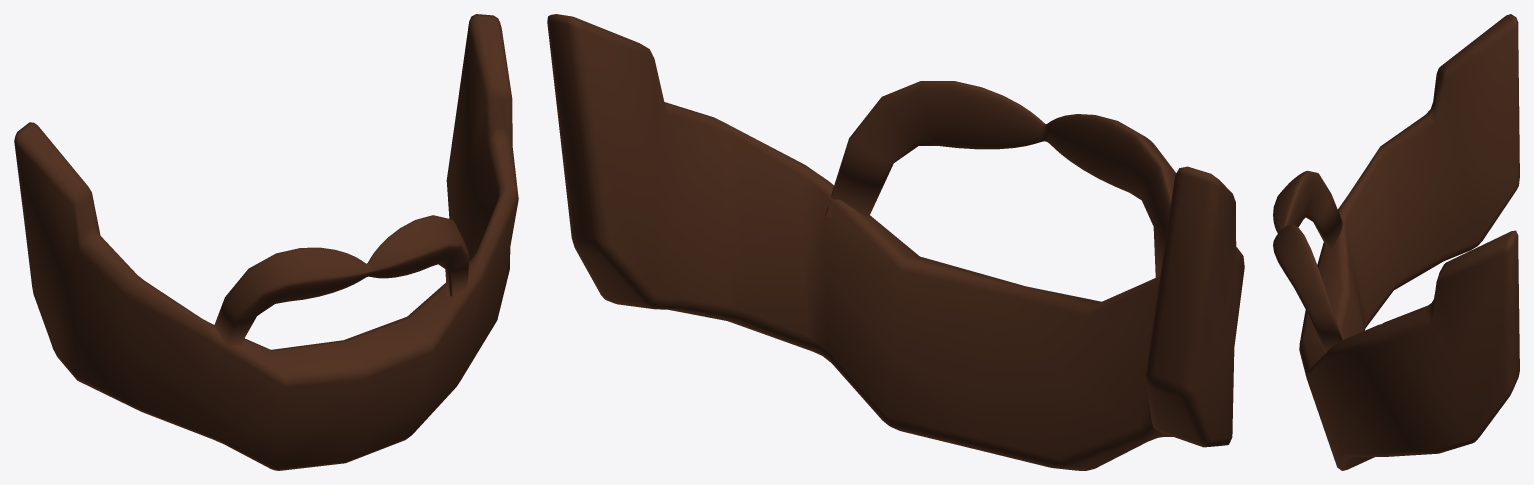
The picture shows the model from 3 angles, left to right: view 1: azimuth 30°, elevation 25°; view 2: azimuth 150°, elevation 25°; view 3: azimuth 270°, elevation 25°; orthographic projection. The views are drawn at different scales.
Visible parts, largest first — view 1: beardFullLong; view 2: beardFullLong; view 3: beardFullLong.
Boxes of the visible parts, <box> form: beardFullLong: <box>14,14,518,470</box>; beardFullLong: <box>547,14,1244,470</box>; beardFullLong: <box>1273,14,1519,470</box>.
Bounding box in the file's own units: 0.4441 × 0.2868 × 0.2.
1 material, 1 textured.
